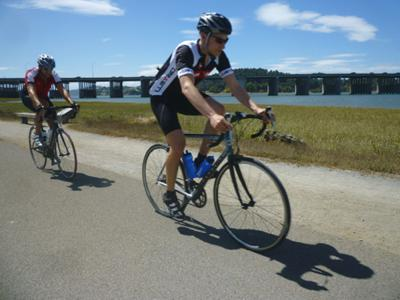With Helmet: (192, 10, 237, 59), (35, 51, 57, 78)
